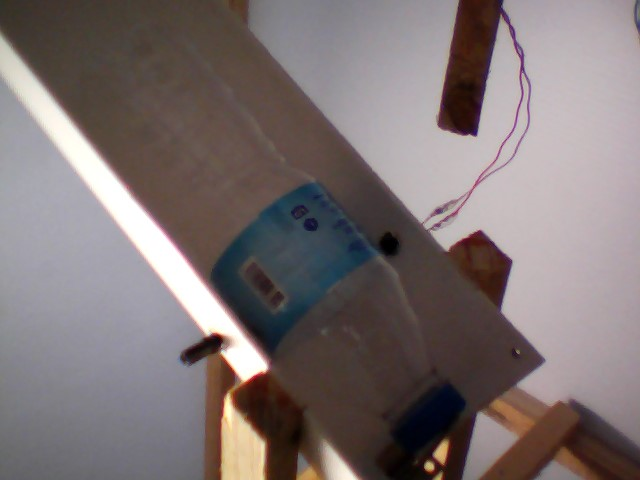plastico: (58, 22, 472, 454)
